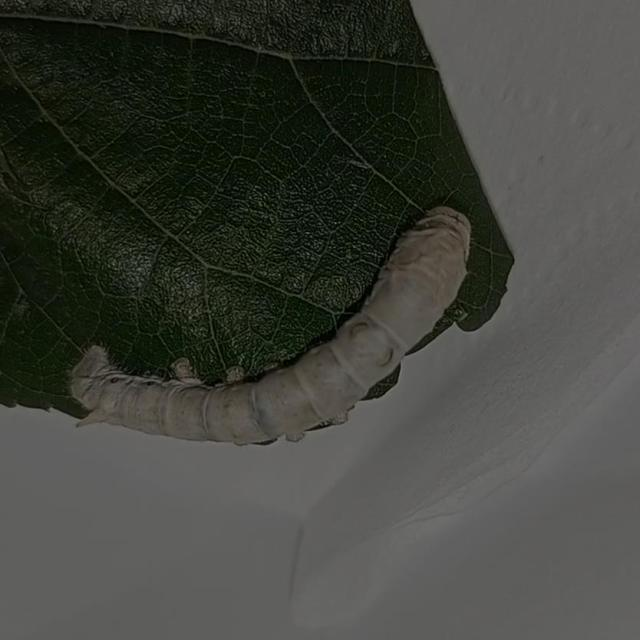Healthy: (67, 195, 474, 456)
